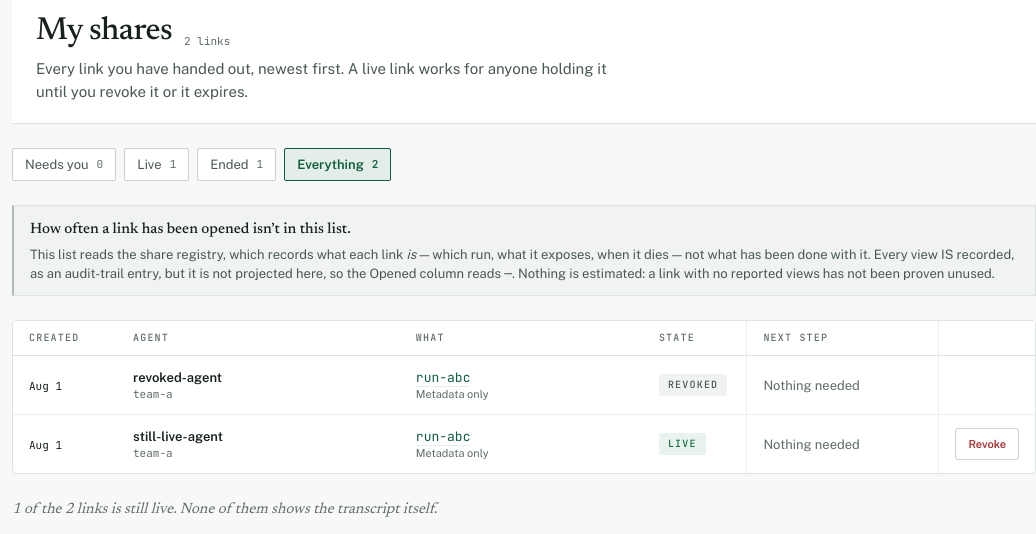
MySharesPage — activity feed (M151, §4.4 / §7.1 / §7.2) › the Ended chip narrows the list to links that no longer work
Check: the text "still-live-agent" is shown, box [133,429,223,444]
Click the radio button labelled "Ended 1" at (237,164), box [197,148,276,181]
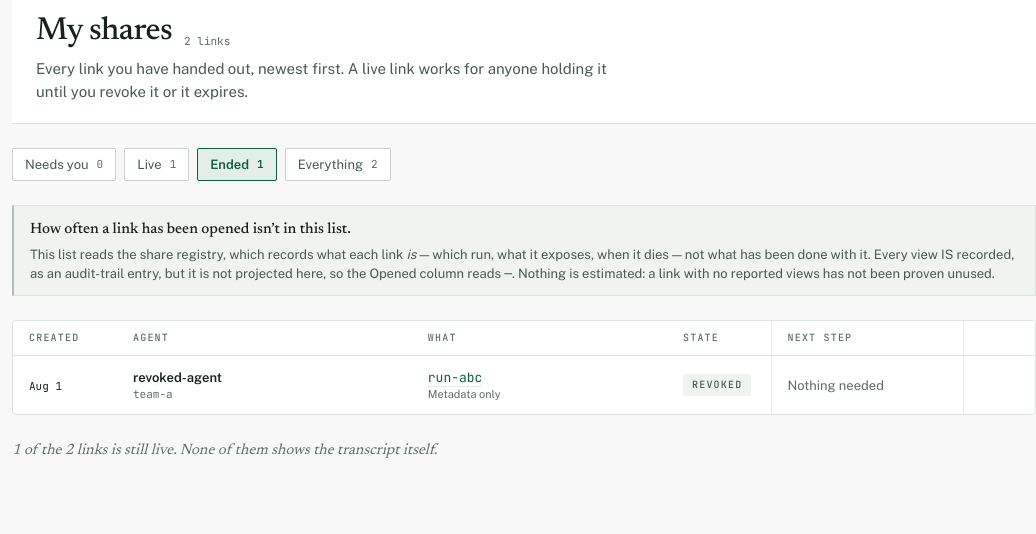
Check: the text "revoked-agent" is shown, box [133,370,222,385]
Check: the text "still-live-agent" is gone
